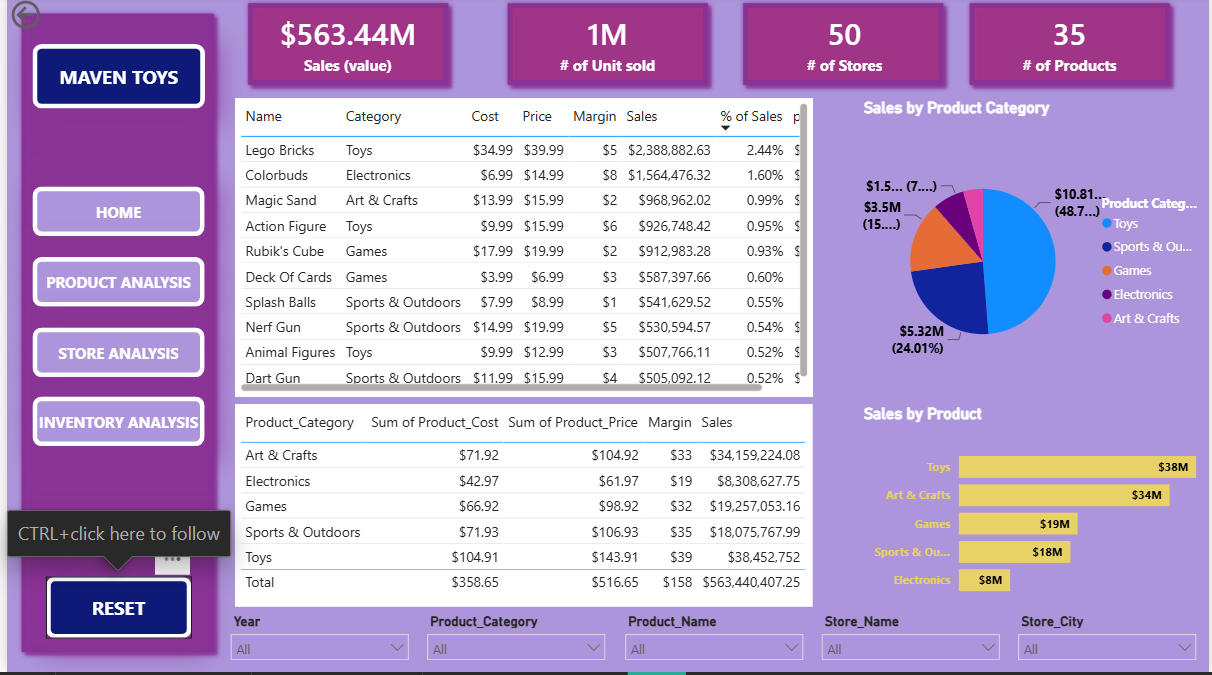

The dashboard page shown, as its layout file describes it:
{"tool":"powerbi","page":{"name":"Product Analysis","canvas":[1280,720],"ordinal":1},"visuals":[{"type":"shape","box":[249.2,0,228.5,102.3],"z":0},{"type":"shape","box":[8,11,220,695],"z":1000},{"type":"shape","box":[27.1,202.2,183.3,52.9],"z":2000},{"type":"shape","box":[27.1,277.8,183.3,52.9],"z":3000},{"type":"shape","box":[27.1,353.4,183.3,52.9],"z":4000},{"type":"shape","box":[27.1,427.1,183.3,52.9],"z":5000},{"type":"shape","box":[41.6,618,155,66.1],"z":6000},{"type":"actionButton","box":[0,0,100,40],"z":7000},{"type":"slicer","title":"Sales by Month","fields":{"Values":["calendar.Date.Variation.Date Hierarchy.Year"]},"box":[228.5,651.8,209.3,68.7],"z":8000},{"type":"cardVisual","title":"Sales by Month","fields":{"Data":["sales.Sales (in value)"]},"box":[249.2,0,228.5,102.3],"z":9000},{"type":"shape","box":[776.5,0,228.5,102.3],"z":10000},{"type":"shape","box":[525.6,0,228.5,102.3],"z":11000},{"type":"shape","box":[1017.7,0,228.5,102.3],"z":12000},{"type":"cardVisual","title":"Sales by Month","fields":{"Data":["sales.sum of unit"]},"box":[525.6,0,228.5,102.3],"z":13000},{"type":"cardVisual","title":"Sales by Month","fields":{"Data":["Count(products.Product_ID)"]},"box":[1017.7,0,228.5,102.3],"z":14000},{"type":"cardVisual","title":"Sales by Month","fields":{"Data":["CountNonNull(stores.Store_ID)"]},"box":[778.1,0,228.5,102.3],"z":15000},{"type":"slicer","title":"Sales by Month","fields":{"Values":["products.Product_Category"]},"box":[437.8,651.8,209.3,68.7],"z":16000},{"type":"slicer","title":"Sales by Month","fields":{"Values":["products.Product_Name"]},"box":[648.7,651.8,209.3,68.7],"z":17000},{"type":"slicer","title":"Sales by Month","fields":{"Values":["stores.Store_City"]},"box":[1067.2,651.8,209.3,68.7],"z":18000},{"type":"slicer","title":"Sales by Month","fields":{"Values":["stores.Store_Name"]},"box":[857.9,651.8,209.3,68.7],"z":19000},{"type":"shape","box":[27.2,51.1,183.7,68.7],"z":20000},{"type":"pieChart","fields":{"Category":["products.Product_Category"],"Y":["sales.Sales (value)"]},"box":[907.5,108.6,372.3,317.9],"z":21000},{"type":"barChart","fields":{"Y":["sales.Sales (value)"],"Category":["products.Product_Category","products.Product_Name"]},"box":[907.5,434.6,373.9,217.3],"z":22000},{"type":"tableEx","fields":{"Values":["products.Product_Name","products.Product_Category","Sum(products.Product_Cost)","Sum(products.Product_Price)","products.Margin","sales.Sales (value)1","sales.Sales (value)","sales.price"]},"box":[242.8,108.6,615.1,317.9],"z":23000},{"type":"tableEx","fields":{"Values":["products.Product_Category","Sum(products.Product_Cost)","Sum(products.Product_Price)","products.Margin","sales.Sales (value)"]},"box":[242.8,434.6,615.1,215.7],"z":24000}]}

Visuals, with their boxes in screenshot pixels (x1, y1, x2, y2), scaled from the page's 1280x720 canvas onto the 1212x675 screenshot:
shape: left=236, top=0, right=452, bottom=96
shape: left=8, top=10, right=216, bottom=662
shape: left=26, top=190, right=199, bottom=239
shape: left=26, top=260, right=199, bottom=310
shape: left=26, top=331, right=199, bottom=381
shape: left=26, top=400, right=199, bottom=450
shape: left=39, top=579, right=186, bottom=641
actionButton: left=0, top=0, right=95, bottom=38
"Sales by Month" slicer: left=216, top=611, right=415, bottom=674
"Sales by Month" cardVisual: left=236, top=0, right=452, bottom=96
shape: left=735, top=0, right=952, bottom=96
shape: left=498, top=0, right=714, bottom=96
shape: left=964, top=0, right=1180, bottom=96
"Sales by Month" cardVisual: left=498, top=0, right=714, bottom=96
"Sales by Month" cardVisual: left=964, top=0, right=1180, bottom=96
"Sales by Month" cardVisual: left=737, top=0, right=953, bottom=96
"Sales by Month" slicer: left=415, top=611, right=613, bottom=674
"Sales by Month" slicer: left=614, top=611, right=812, bottom=674
"Sales by Month" slicer: left=1011, top=611, right=1209, bottom=674
"Sales by Month" slicer: left=812, top=611, right=1011, bottom=674
shape: left=26, top=48, right=200, bottom=112
pieChart - products.Product_Category x sales.Sales (value): left=859, top=102, right=1211, bottom=400
barChart - sales.Sales (value) x products.Product_Category: left=859, top=407, right=1211, bottom=611
tableEx - products.Product_Name x products.Product_Category: left=230, top=102, right=812, bottom=400
tableEx - products.Product_Category x Sum(products.Product_Cost): left=230, top=407, right=812, bottom=610
